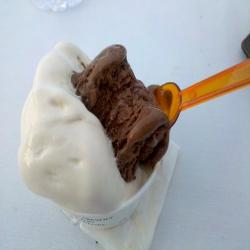icecream: (15, 54, 180, 216)
